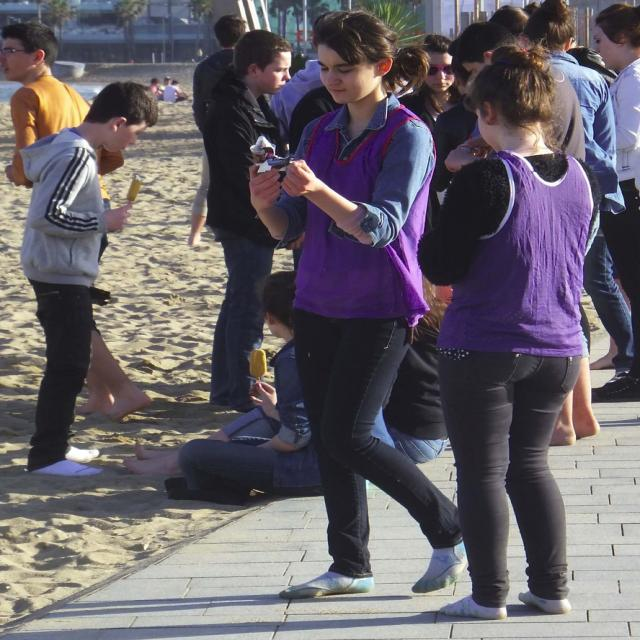body: (245, 6, 487, 606), (410, 39, 609, 630), (122, 273, 450, 476), (0, 18, 157, 426), (14, 77, 162, 479), (201, 29, 296, 414), (169, 268, 326, 500), (445, 20, 589, 171), (592, 2, 639, 404), (184, 12, 250, 246), (273, 14, 340, 148), (397, 32, 461, 130), (583, 266, 634, 375), (445, 1, 539, 57), (486, 0, 542, 51), (441, 60, 474, 106), (566, 42, 606, 76), (163, 79, 191, 104), (142, 76, 166, 103), (294, 48, 314, 66), (160, 76, 172, 90), (196, 47, 203, 62)
